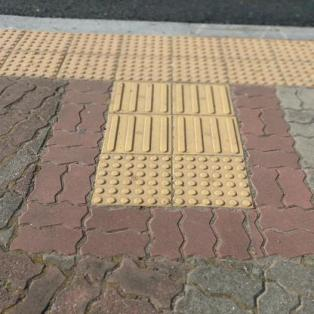Podoctatil: (82, 75, 261, 213), (0, 24, 313, 93)
